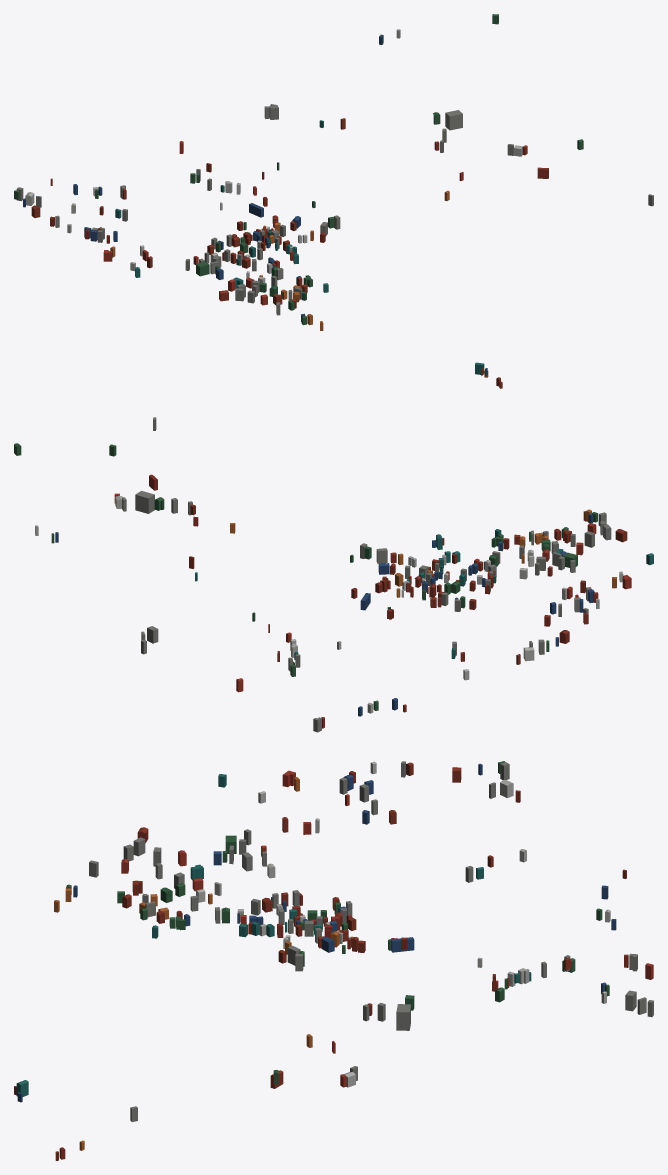
The model's file is near-15-27365-14867.aa8ad407.glb.
The picture shows the model from 3 angles, top to bottom: view 1: azimuth 30°, elevation 25°; view 2: azimuth 150°, elevation 25°; view 3: azimuth 270°, elevation 25°; orthographic projection. The views are drawn at different scales.
Size of the model in its own units: 1175 by 474 by 996.
